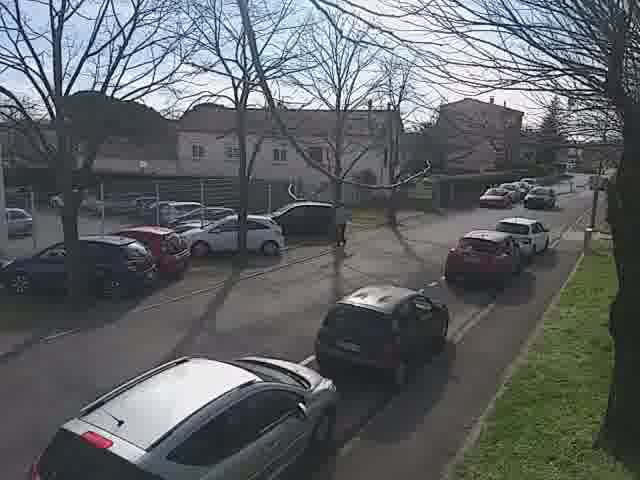persona: (331, 195, 352, 249)
